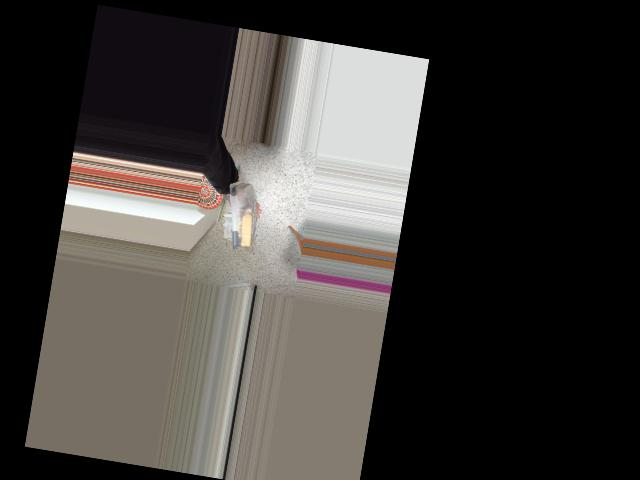cheese: (217, 176, 264, 250)
